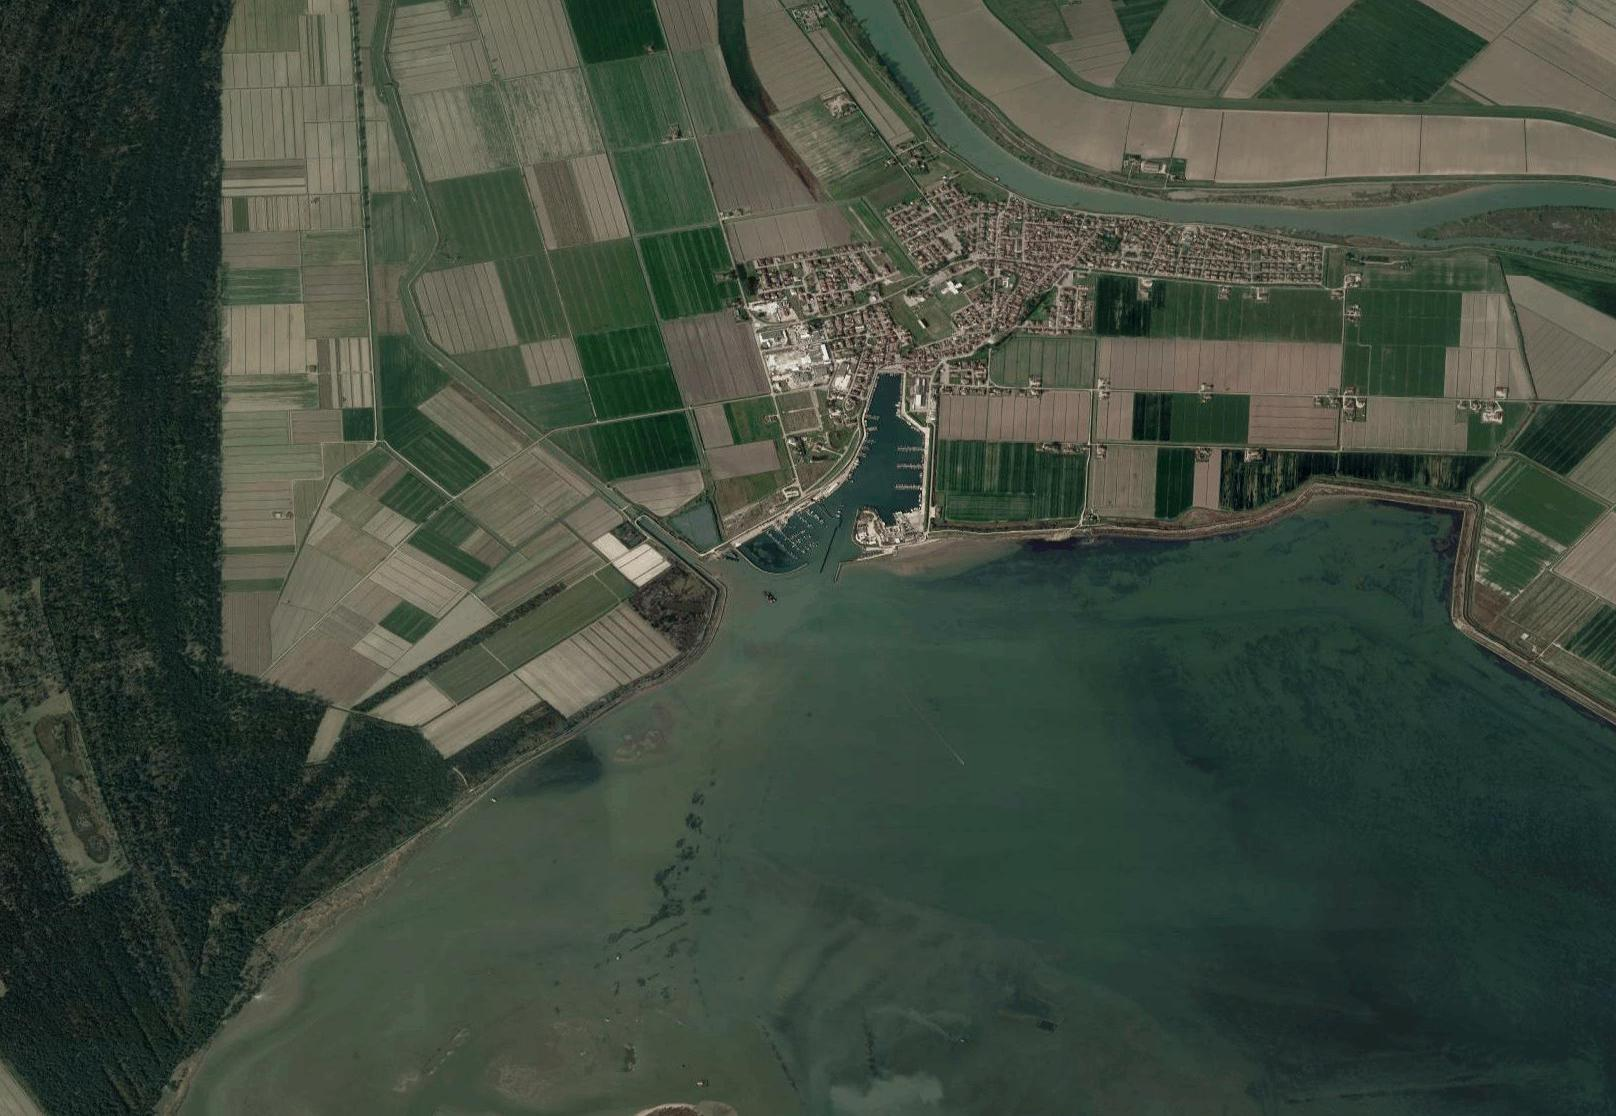harbor: (810, 361, 934, 577)
